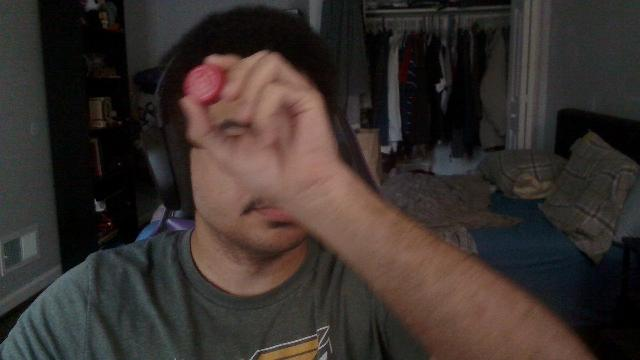cap: (184, 64, 226, 106)
